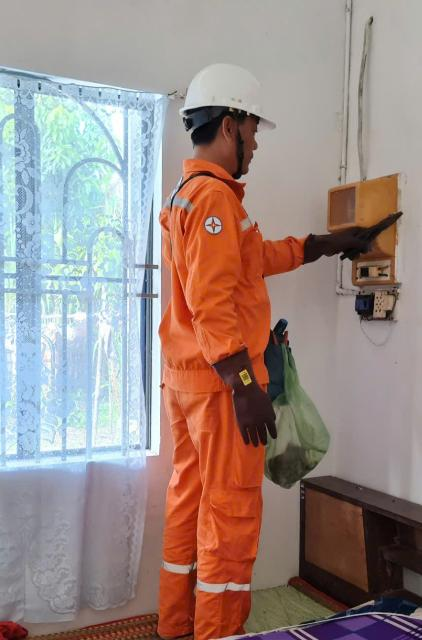gloves: (196, 349, 289, 459), (293, 213, 381, 275)
helmet: (155, 56, 290, 144)
